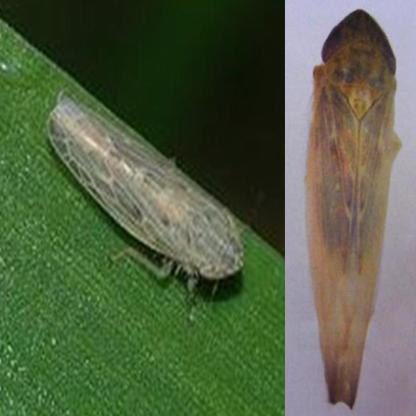Green-Leafhopper: (48, 88, 248, 290), (308, 9, 398, 416)
